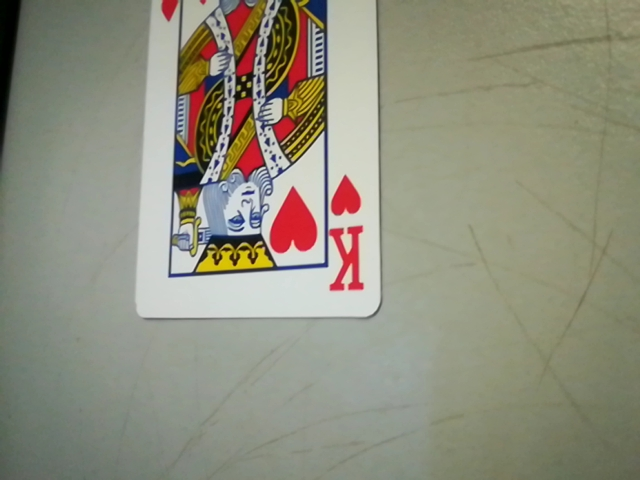hx k: (321, 166, 375, 303)
